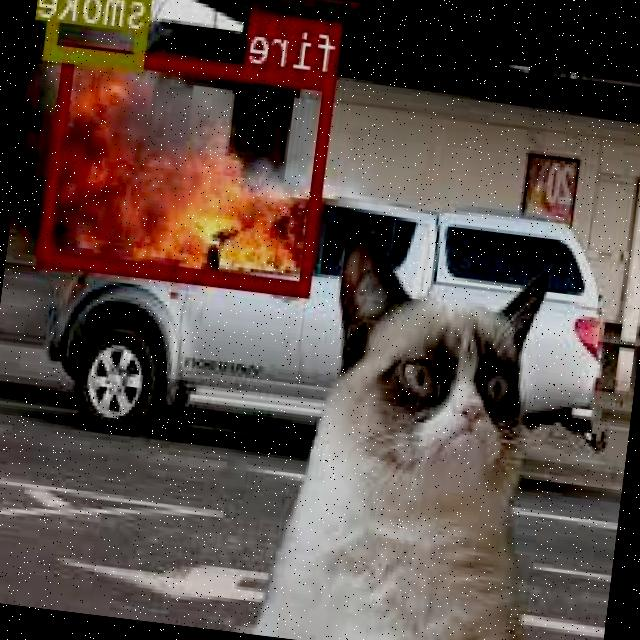fire: (40, 43, 338, 296)
smoke: (46, 0, 155, 67)
